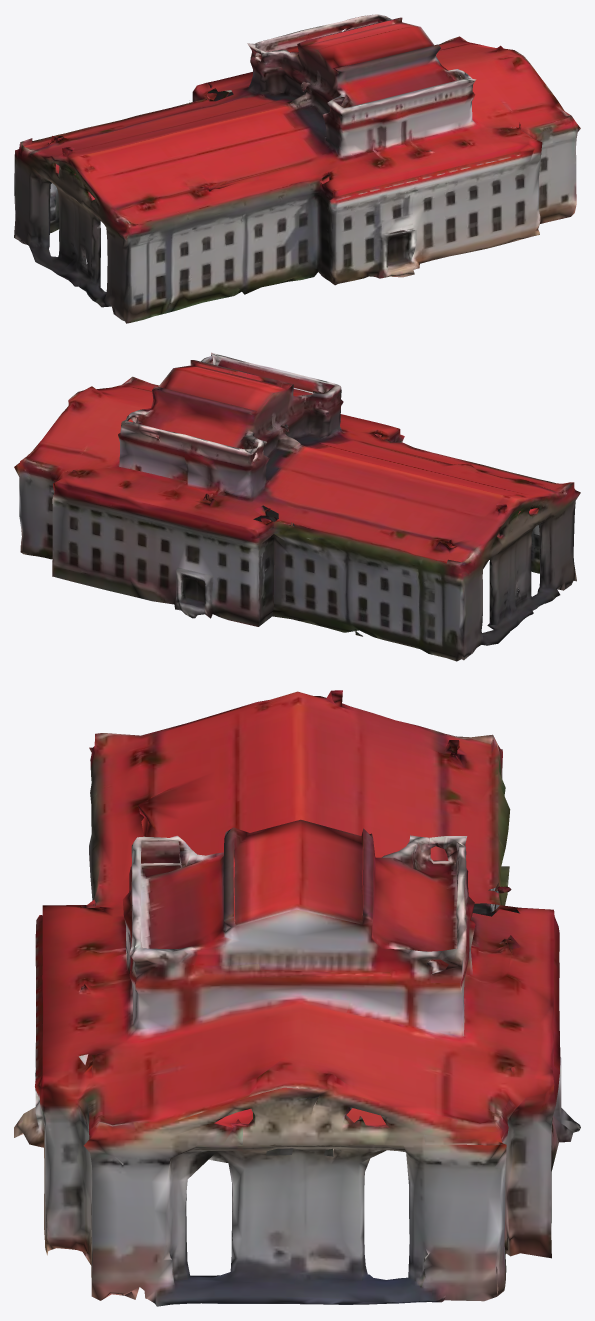
The model's file is theatre-eu.glb.
3 views of the same model, one above another, from view 1: azimuth 30°, elevation 25°; view 2: azimuth 150°, elevation 25°; view 3: azimuth 270°, elevation 25° (orthographic). The views are drawn at different scales.
Parts seen in each view (by area): view 1: TheatreEU; view 2: TheatreEU; view 3: TheatreEU.
Boxes of the visible parts, x1,y1,x2,y2 form: TheatreEU: (14, 14, 580, 323); TheatreEU: (14, 352, 580, 661); TheatreEU: (14, 690, 580, 1306).
Size of the model in its own units: 60 by 21.48 by 35.64.
Materials: 1 (1 with a texture image).
